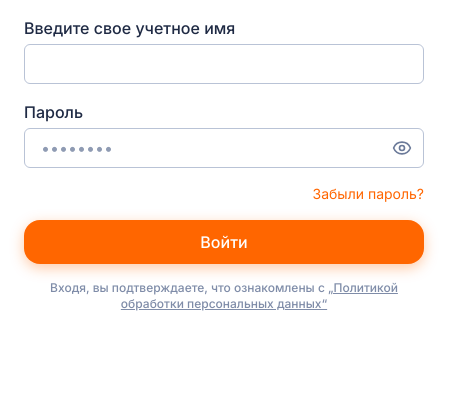
Test case: LoginForm › Error Handling › should display API error on 500 Internal Server Error
Type "test@example.com" into the field labelled "Введите свое учетное имя" at coordinates (224, 64), box [24,44,424,84]
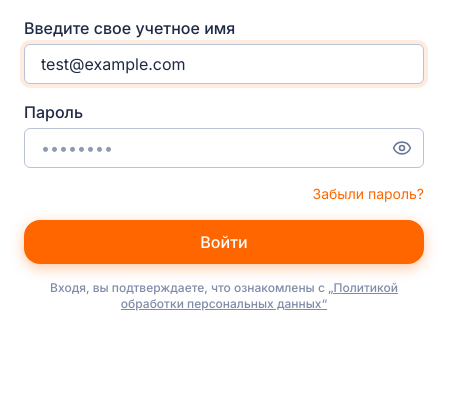
Type "SecurePass123" into the password field labelled "Пароль" at coordinates (224, 148), box [24,128,424,168]
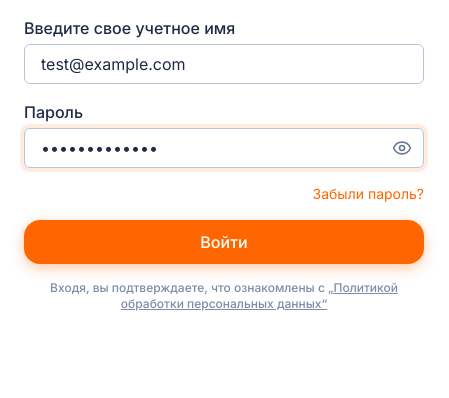
Click the button "Войти" at coordinates (224, 242), box [24,220,424,264]
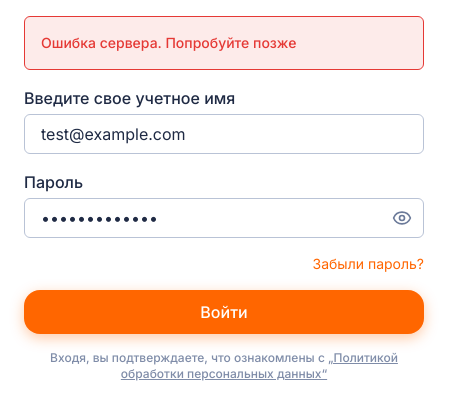
Result: the text "Ошибка сервера. Попробуйте позже" is shown at [41,34,296,51]
